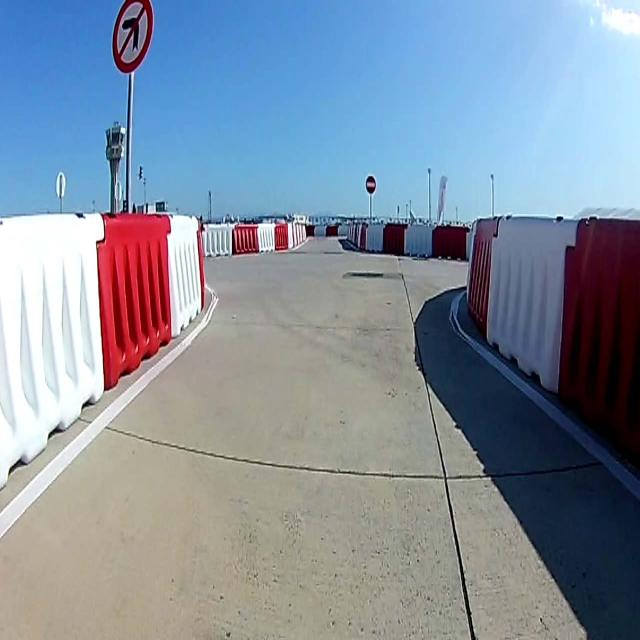girisyok: (366, 175, 376, 195)
soladonulmez: (112, 2, 154, 74)
